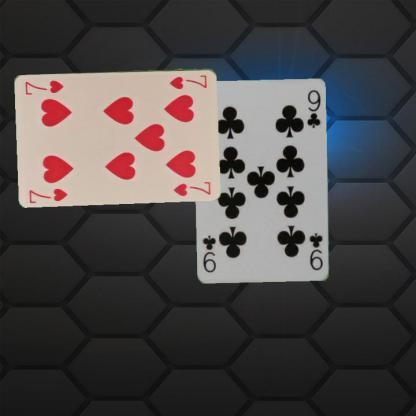7h: (27, 185, 70, 204), (168, 72, 209, 90)
9c: (307, 231, 324, 272)
